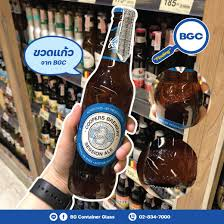glass_bottle: (68, 6, 137, 202)
